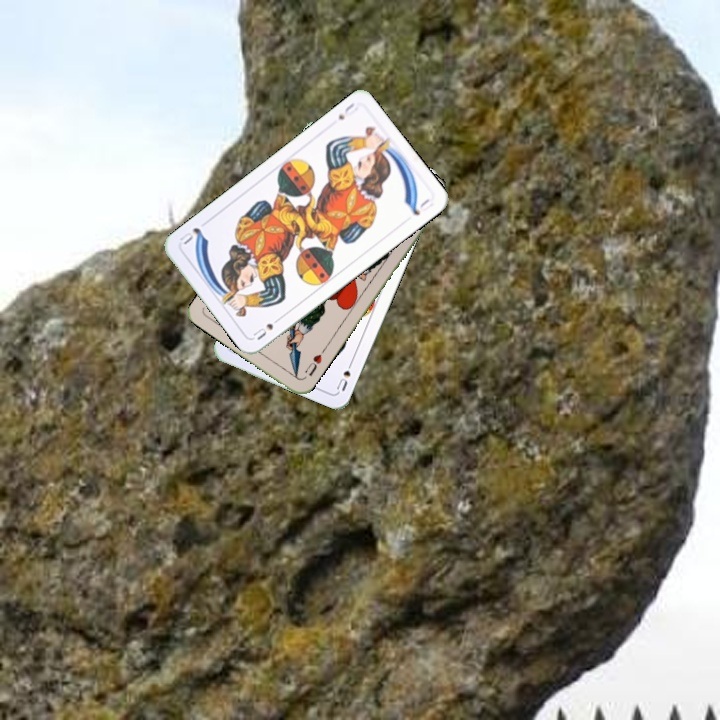HU: (300, 346, 327, 379)
SU: (249, 312, 284, 343), (332, 355, 356, 394), (334, 99, 361, 123)
